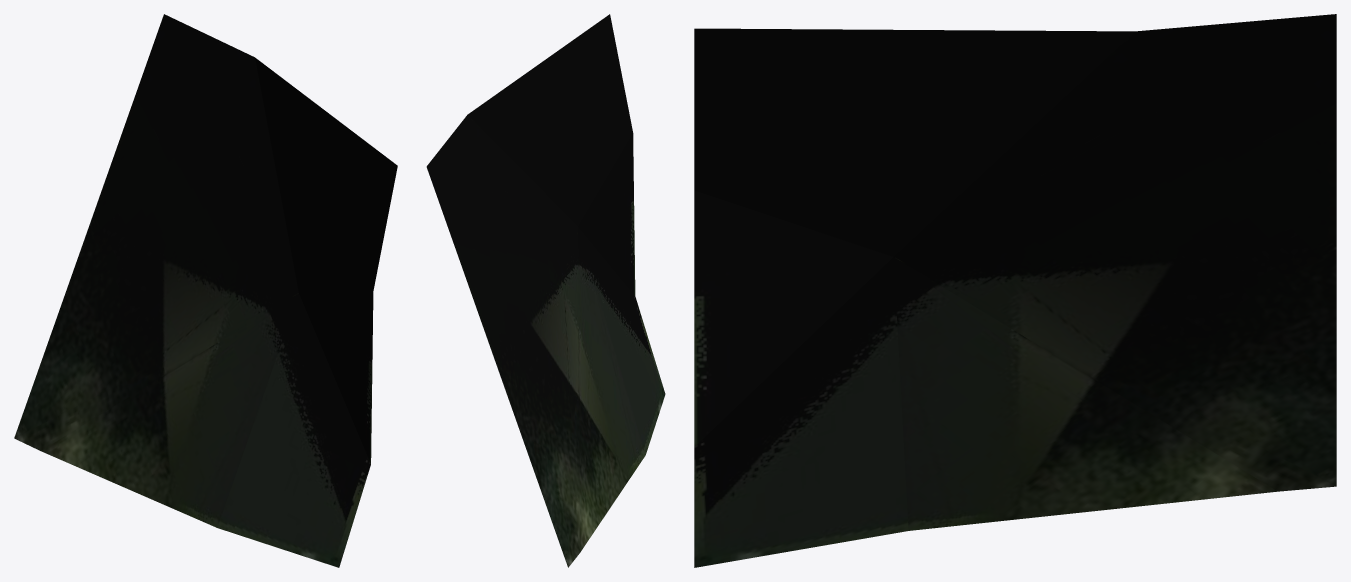
3 views of the same model, side by side, from view 1: azimuth 30°, elevation 25°; view 2: azimuth 150°, elevation 25°; view 3: azimuth 270°, elevation 25° (orthographic). The views are drawn at different scales.
Bounding box in the file's own units: 2.76 × 5.9 × 5.9.
Materials: 3 (3 with a texture image).
